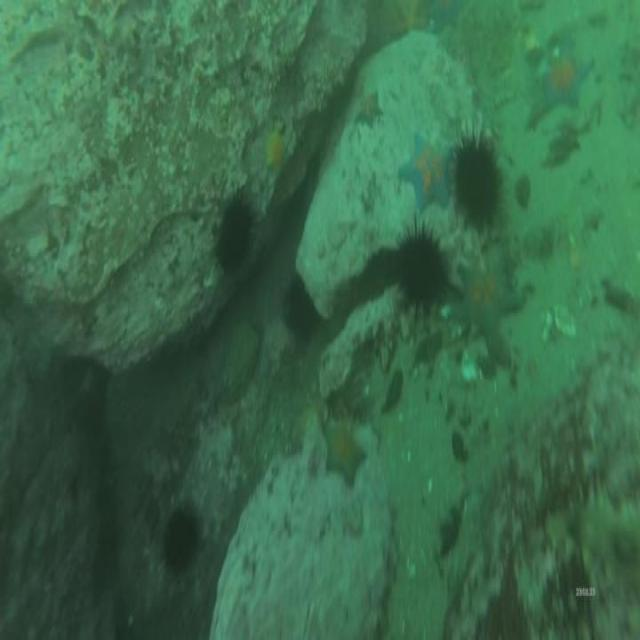echinus: (455, 140, 500, 222), (396, 234, 446, 300), (161, 512, 199, 574), (217, 202, 251, 267), (284, 283, 318, 340)
starfish: (454, 250, 522, 327), (403, 130, 449, 207), (544, 40, 592, 109), (326, 426, 366, 484), (261, 128, 290, 172), (358, 88, 382, 126)
